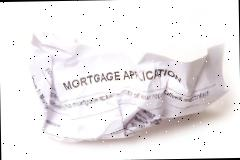paper: (28, 28, 230, 142)
